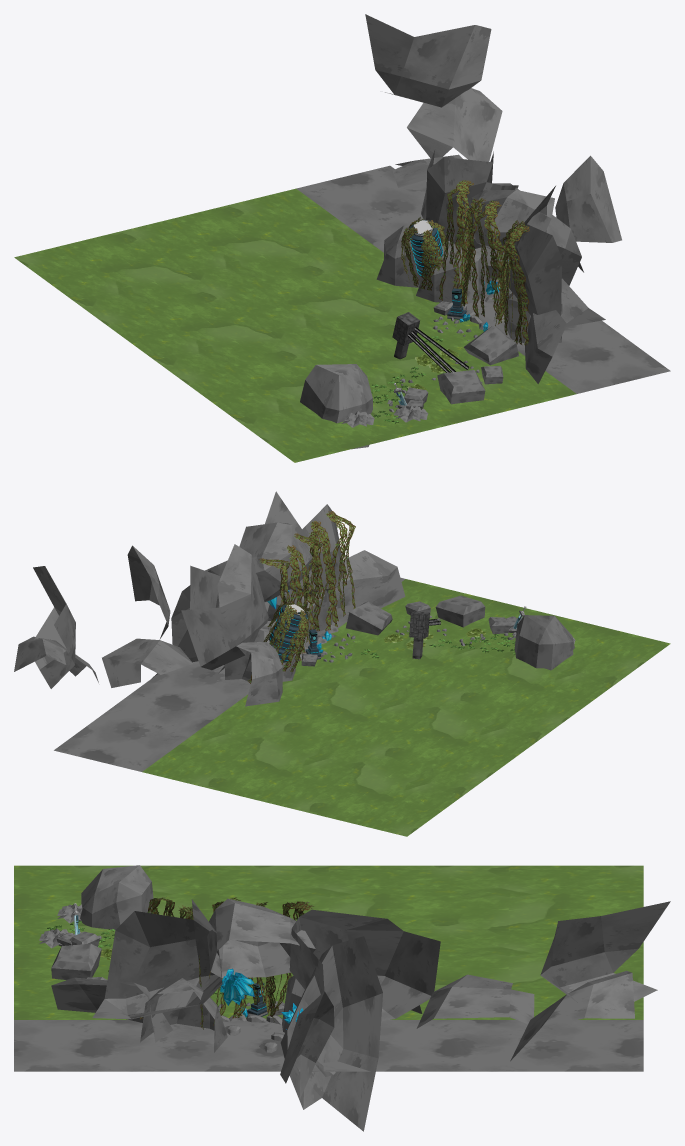
File: écran d'acceuille.FBX
3 renders of one model, top to bottom at view 1: azimuth 30°, elevation 25°; view 2: azimuth 150°, elevation 25°; view 3: azimuth 270°, elevation 25°, orthographic. The views are drawn at different scales.
Visible parts, largest first — view 1: rocher limite011, Object062; view 2: rocher limite011; view 3: rocher limite011.
Boxes of the visible parts, <box> form: rocher limite011: <box>14,14,670,462</box>; Object062: <box>407,327,468,372</box>; rocher limite011: <box>14,491,670,836</box>; rocher limite011: <box>14,865,670,1131</box>.
Bounding box in the file's own units: 2811 × 1162 × 3179.
